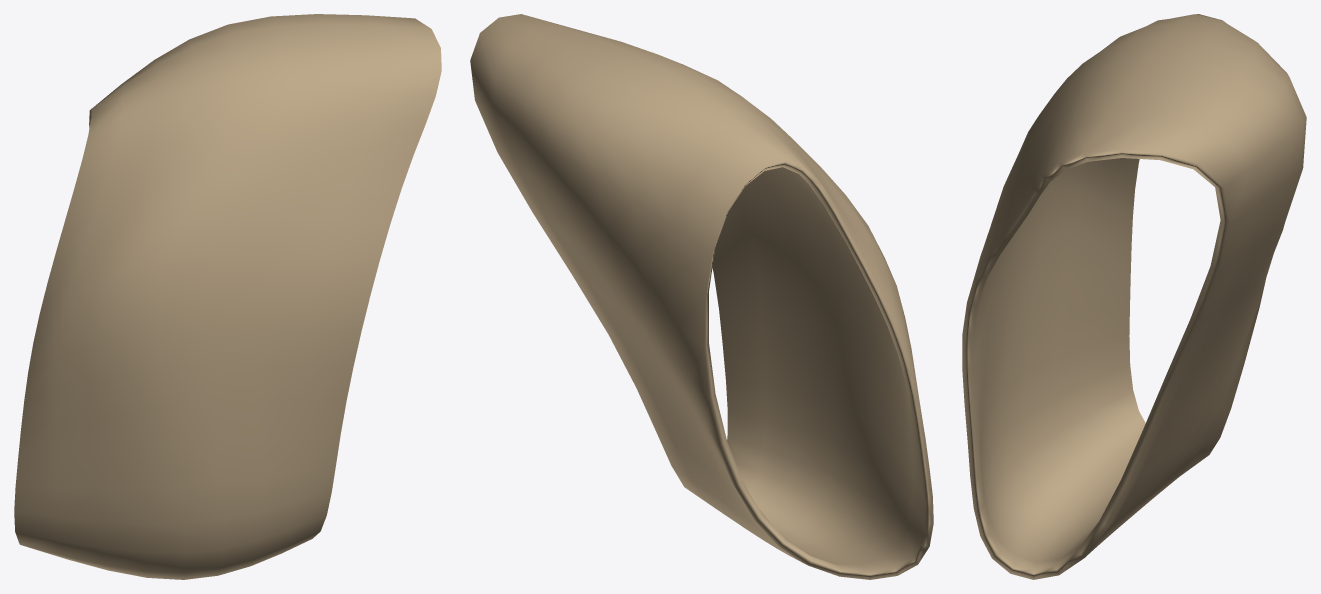
3 views of the same model, side by side, from view 1: azimuth 30°, elevation 25°; view 2: azimuth 150°, elevation 25°; view 3: azimuth 270°, elevation 25° (orthographic). The views are drawn at different scales.
Parts seen in each view (by area): view 1: 右侧肩锁关节囊; view 2: 右侧肩锁关节囊; view 3: 右侧肩锁关节囊.
Boxes of the visible parts, box(x1,y1,x2,y2) form: 右侧肩锁关节囊: box(14, 14, 441, 579); 右侧肩锁关节囊: box(470, 14, 933, 579); 右侧肩锁关节囊: box(962, 14, 1306, 579).
Size of the model in its own units: 0.0398 by 0.043 by 0.0238.
